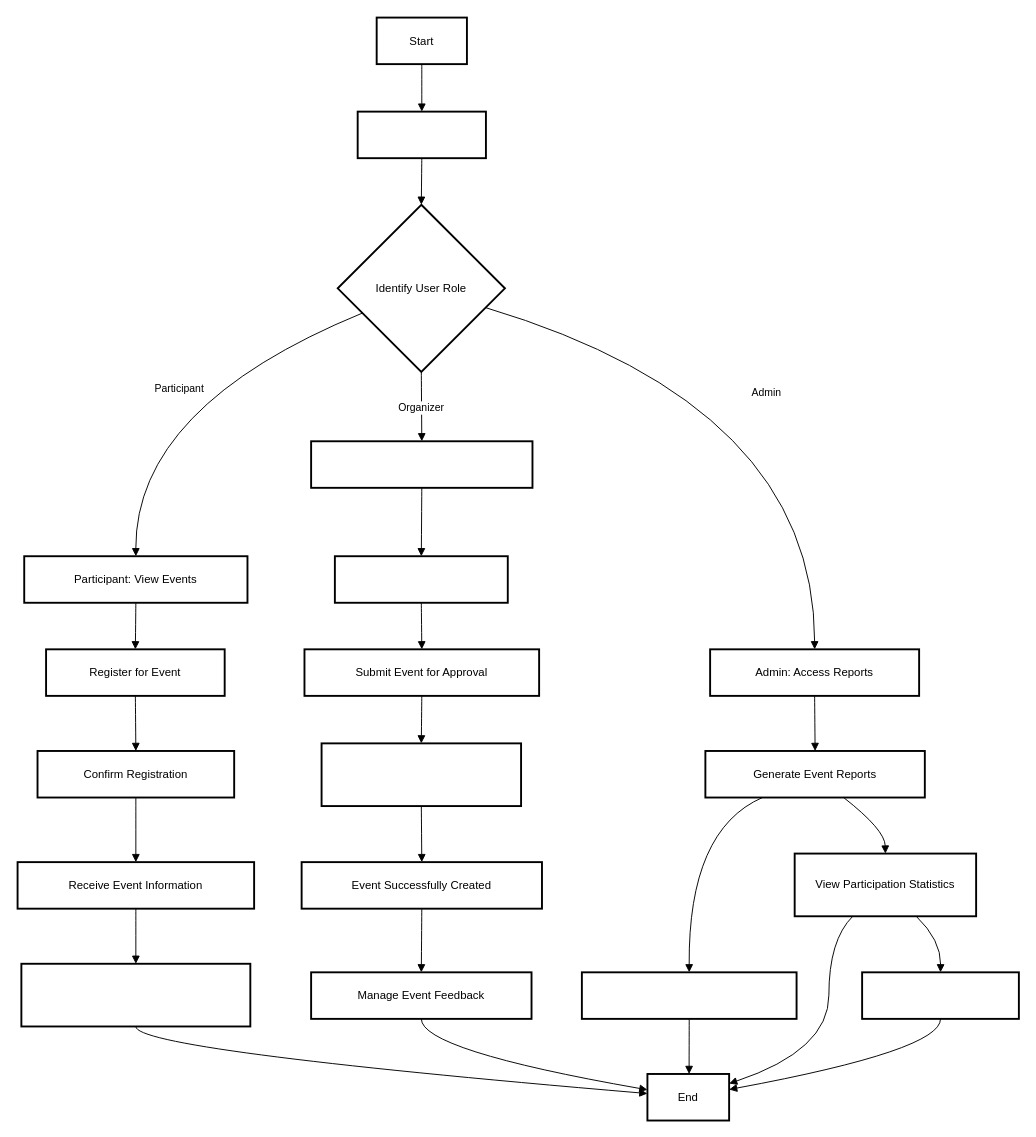
This 1036x1137 diagram has some shape labels left out. The shapes that lost their labels are listed below. From the top down, each one's box as (x1, y1, x2, y2) in pixels, then its label:
(356, 110, 486, 159): User Login
(310, 440, 533, 488): Organizer: Create Event
(333, 555, 508, 603): Set Event Details
(320, 742, 522, 807): Send Notifications to Participants
(20, 962, 251, 1027): Attend and Participate in Event
(580, 971, 797, 1019): View Feedback Reports
(861, 971, 1019, 1019): Export Reports
